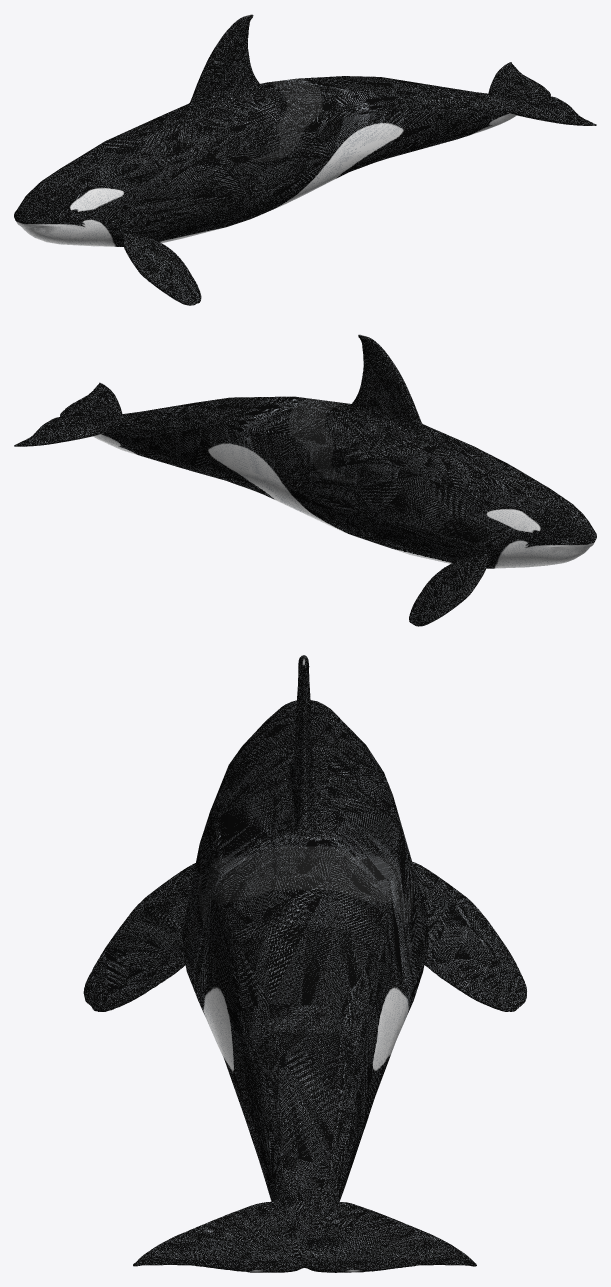
Rendered from orca.dae.
The picture shows the model from 3 angles, top to bottom: view 1: azimuth 30°, elevation 25°; view 2: azimuth 150°, elevation 25°; view 3: azimuth 270°, elevation 25°; orthographic projection. The views are drawn at different scales.
Visible parts, largest first — view 1: KWHFL (×2); view 2: KWHFL (×2); view 3: KWHFL (×3).
Boxes of the visible parts, box(x1,y1,x2,y2) form: KWHFL (×2): box(14, 14, 596, 305); KWHFL (×2): box(14, 334, 596, 626); KWHFL (×3): box(83, 655, 526, 1272).
Bounding box in the file's own units: 25864 × 9204 × 10286.
Materials: 3 (2 with a texture image).
